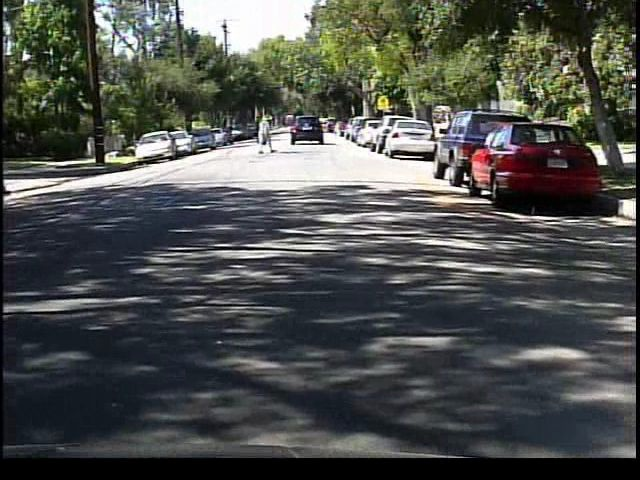person: (253, 111, 278, 158)
